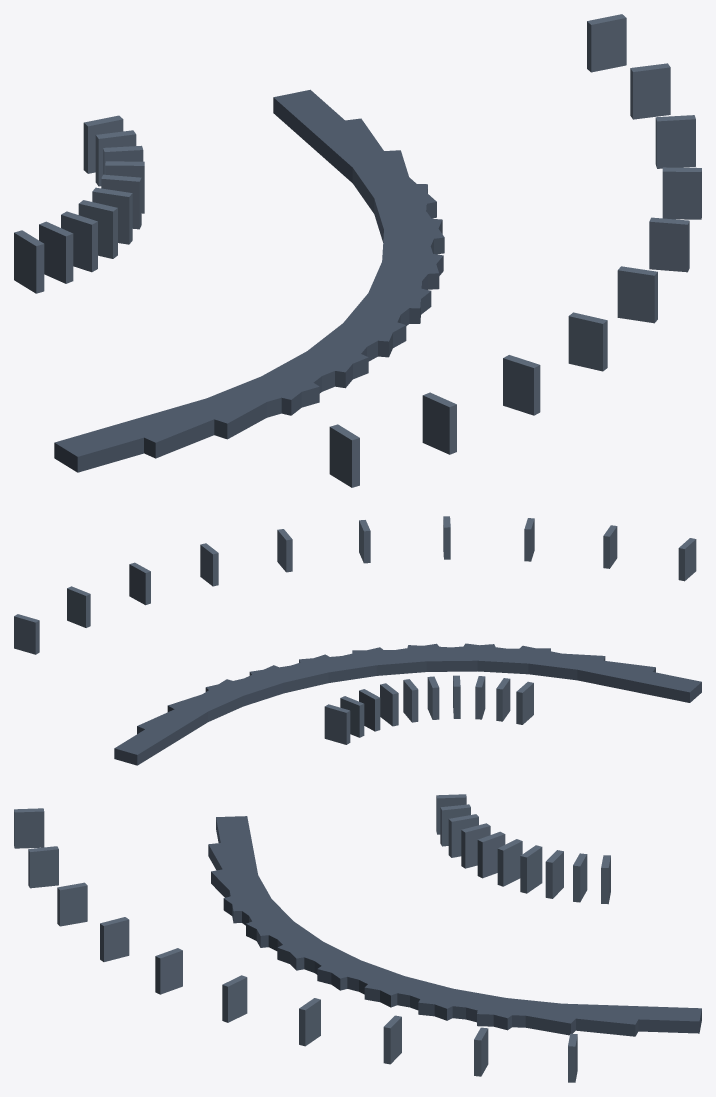
The model's file is track_curveright_90.glb.
3 renders of one model, top to bottom at view 1: azimuth 30°, elevation 25°; view 2: azimuth 150°, elevation 25°; view 3: azimuth 270°, elevation 25°, orthographic. The views are drawn at different scales.
Visible parts, largest first — view 1: Track_CurveRight_90; view 2: Track_CurveRight_90; view 3: Track_CurveRight_90.
Boxes of the visible parts, box(x1,y1,x2,y2) form: Track_CurveRight_90: box(14, 14, 701, 487); Track_CurveRight_90: box(14, 516, 701, 765); Track_CurveRight_90: box(14, 794, 701, 1082).
Size of the model in its own units: 3.62 by 0.42 by 3.62.
